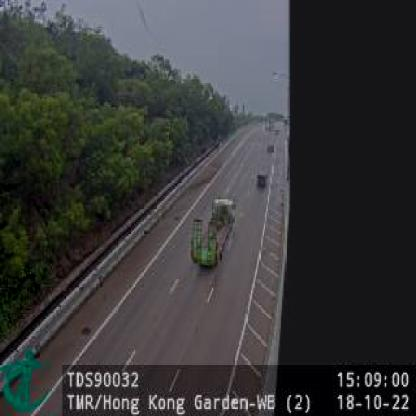Car: (256, 170, 269, 191)
Truck: (190, 197, 236, 271)
